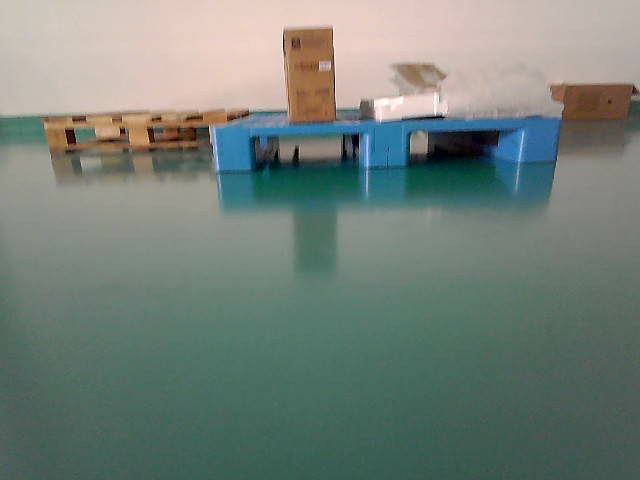block: (213, 121, 255, 172), (366, 126, 408, 170), (521, 120, 561, 165)
front: (213, 121, 559, 171)
hole pallet: (253, 133, 369, 172), (410, 128, 521, 164)
